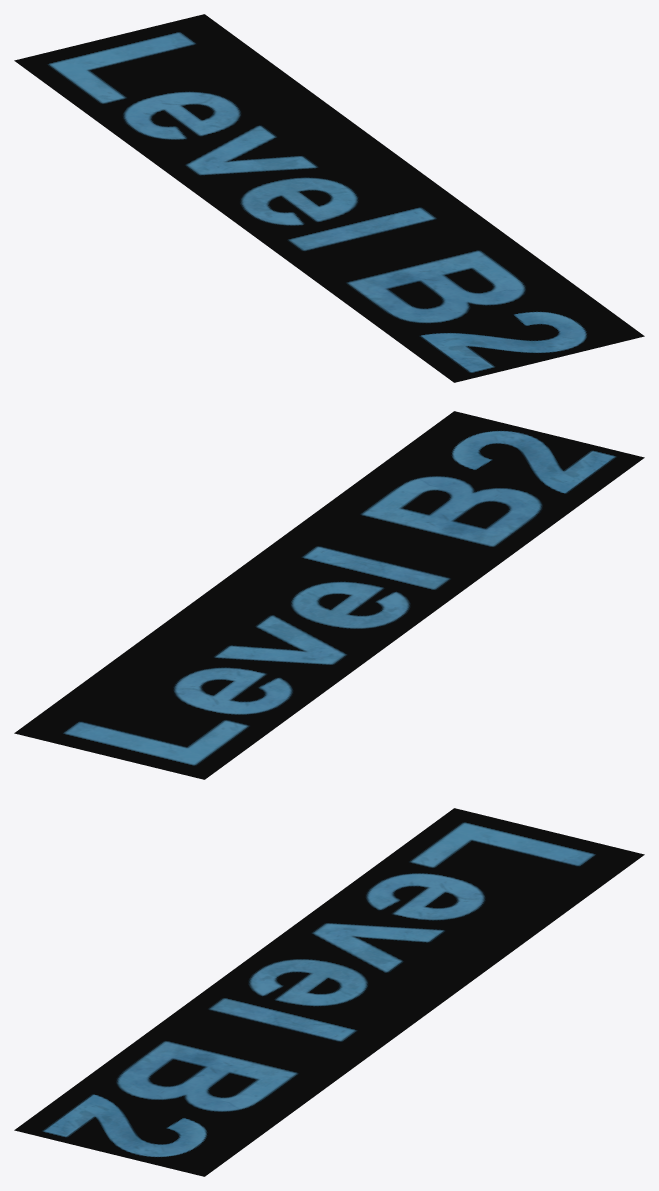
Rendered from HH_Decal_Level_B2.fbx.
The picture shows the model from 3 angles, top to bottom: view 1: azimuth 30°, elevation 25°; view 2: azimuth 150°, elevation 25°; view 3: azimuth 330°, elevation 25°; orthographic projection.
Visible parts, largest first — view 1: HH_Decal_Level_B2; view 2: HH_Decal_Level_B2; view 3: HH_Decal_Level_B2.
Boxes of the visible parts, <box> form: HH_Decal_Level_B2: <box>14,14,644,382</box>; HH_Decal_Level_B2: <box>14,411,644,779</box>; HH_Decal_Level_B2: <box>14,808,644,1176</box>.
Size of the model in its own units: 37.69 by 0 by 151.
